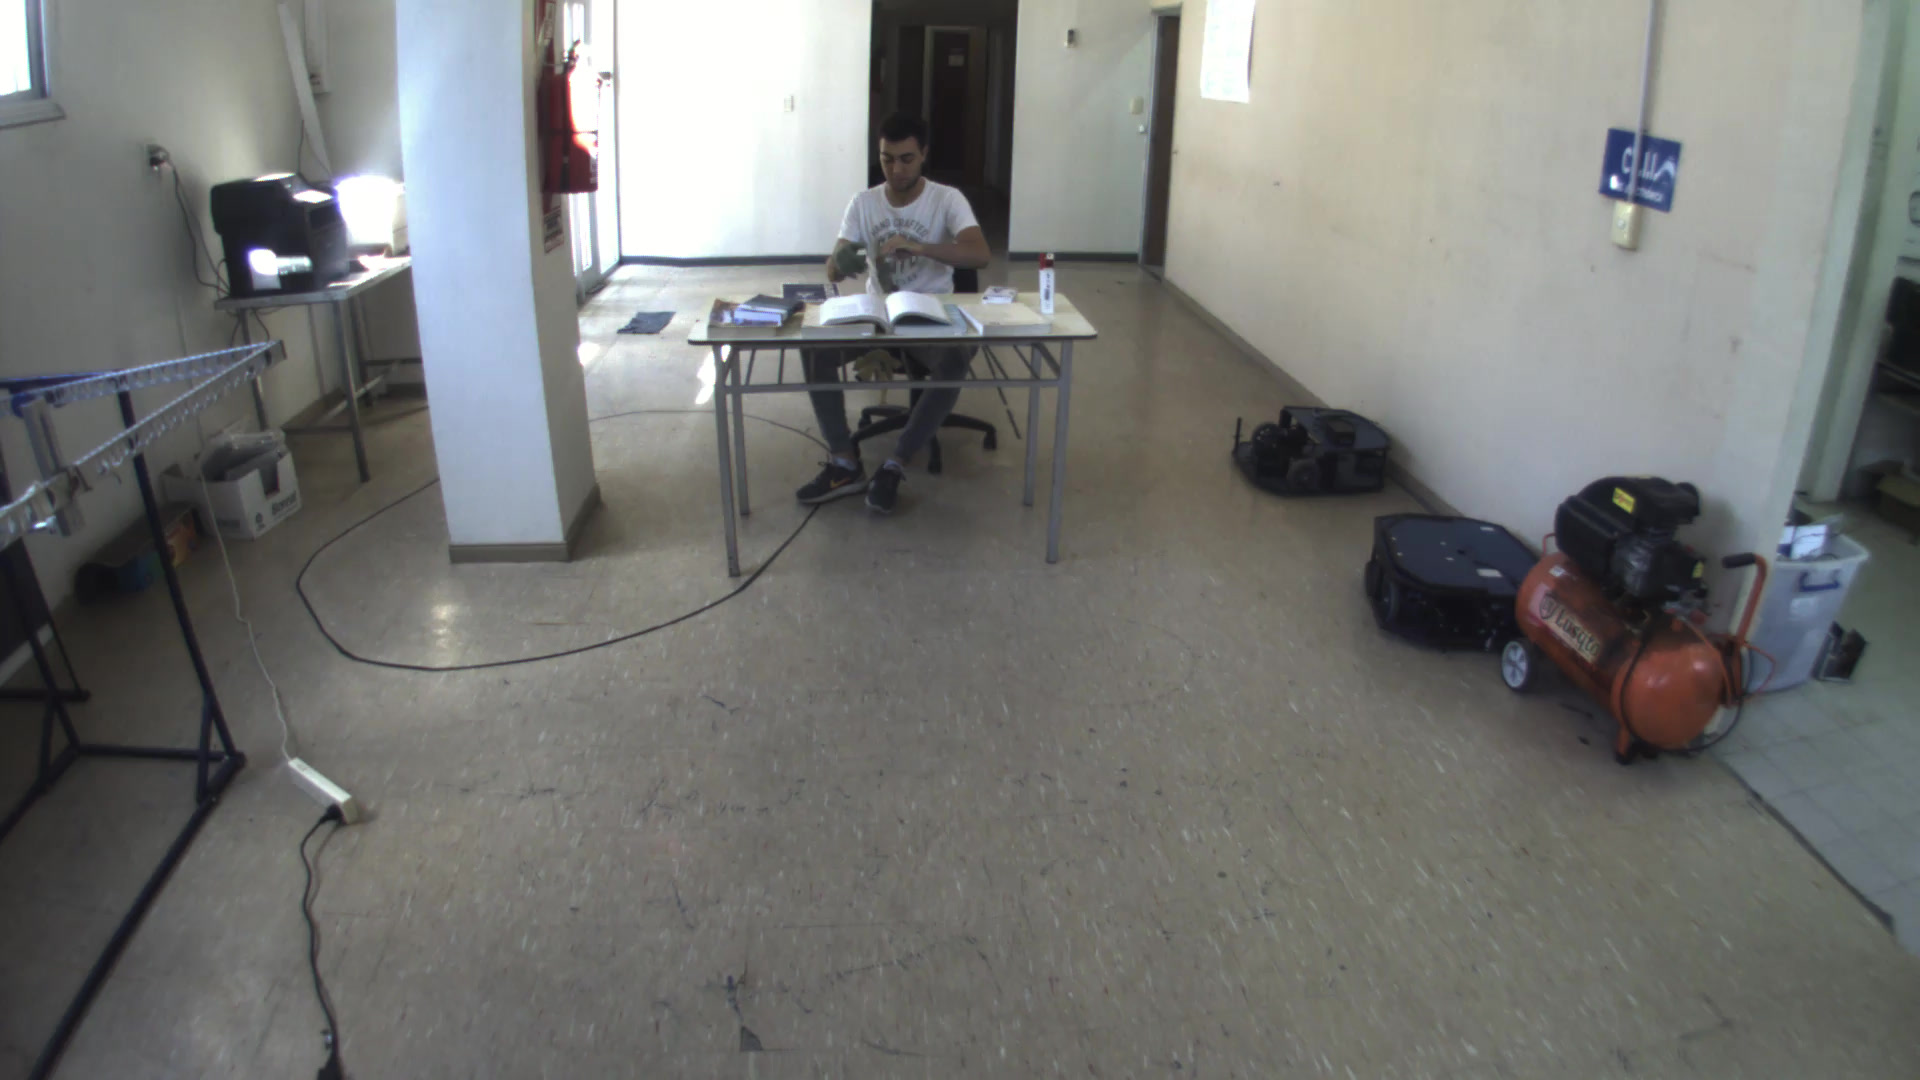hand: (833, 243, 869, 280), (876, 233, 924, 258)
